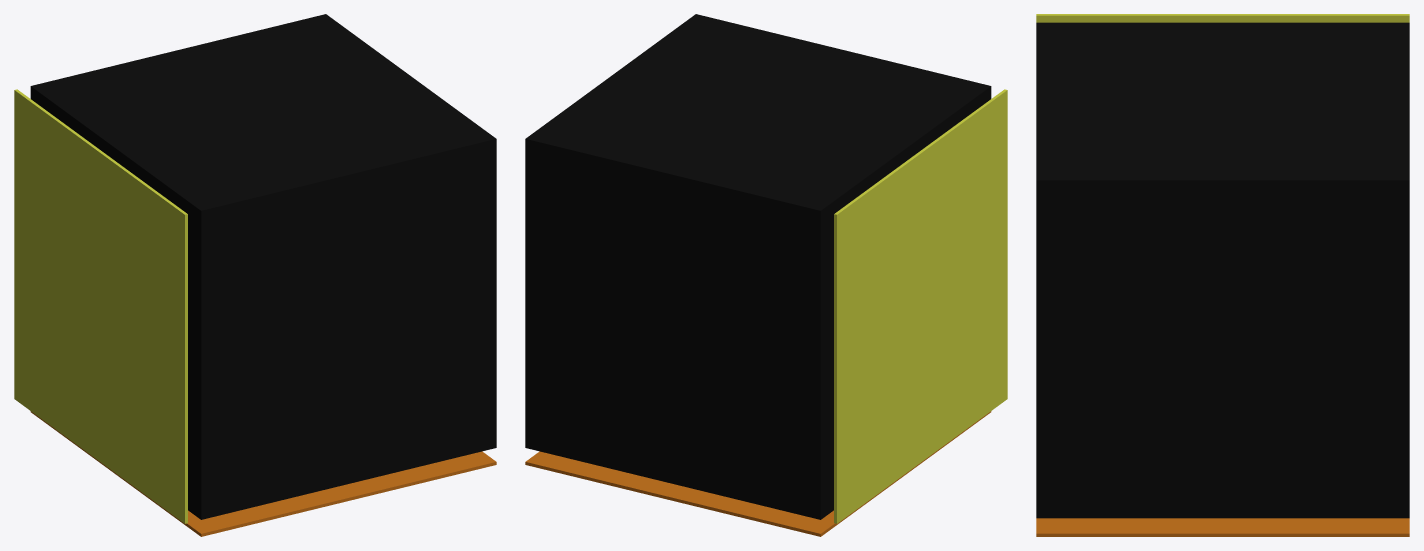
The picture shows the model from 3 angles, left to right: view 1: azimuth 30°, elevation 25°; view 2: azimuth 150°, elevation 25°; view 3: azimuth 270°, elevation 25°; orthographic projection. The views are drawn at different scales.
Parts seen in each view (by area): view 1: Cube, yellow-1, red-3; view 2: Cube, yellow-1, red-3; view 3: Cube, red-3, yellow-1.
Boxes of the visible parts, x1,y1,x2,y2 form: Cube: (30,14,496,519); yellow-1: (14,89,187,523); red-3: (30,411,496,536); Cube: (525,14,991,519); yellow-1: (834,89,1007,523); red-3: (525,411,991,536); Cube: (1036,22,1409,518); red-3: (1036,518,1409,536); yellow-1: (1036,14,1409,22).
Size of the model in its own units: 2.11 by 2.11 by 2.
